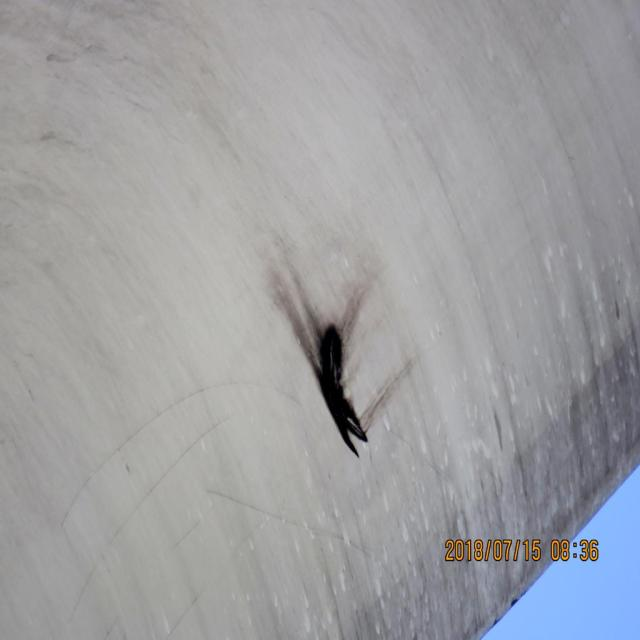crack: (298, 307, 385, 462)
